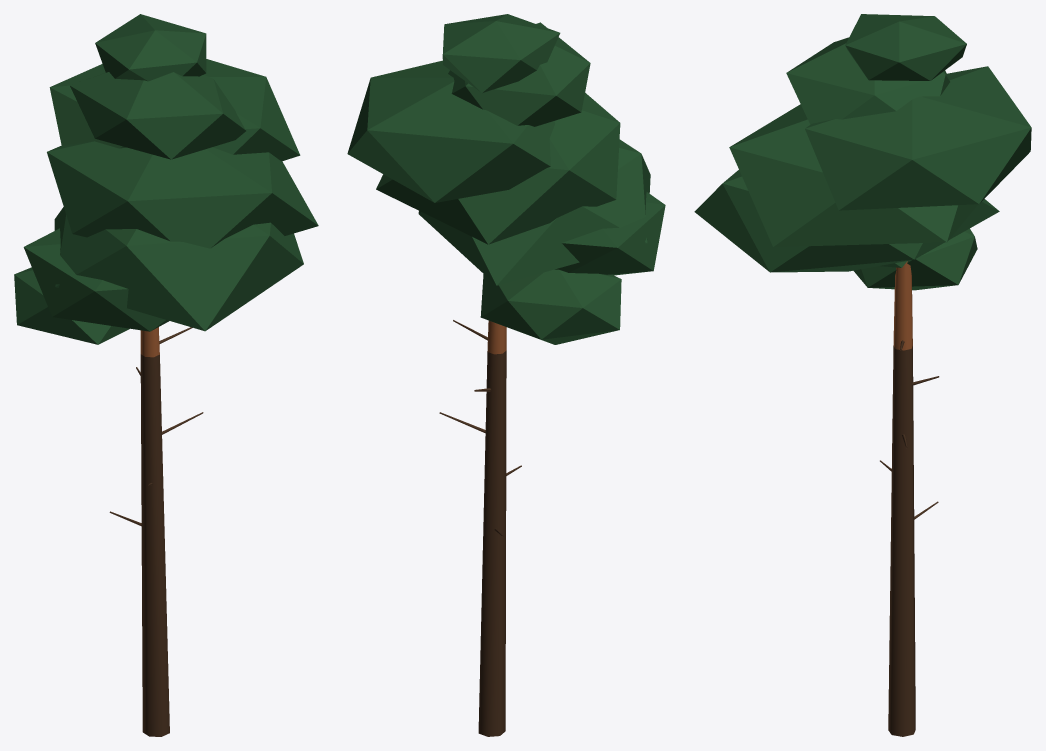
Rendered from tree-pine-3.glb.
The picture shows the model from 3 angles, left to right: view 1: azimuth 30°, elevation 25°; view 2: azimuth 150°, elevation 25°; view 3: azimuth 270°, elevation 25°; orthographic projection.
Visible parts, largest first — view 1: 02_paint0, 00_#4a3424, 01_#9a5a34; view 2: 02_paint0, 00_#4a3424, 01_#9a5a34; view 3: 02_paint0, 00_#4a3424, 01_#9a5a34.
Boxes of the visible parts, left/top/right/bottom form: 02_paint0: left=14, top=14, right=318, bottom=344; 00_#4a3424: left=109, top=327, right=203, bottom=736; 01_#9a5a34: left=140, top=327, right=159, bottom=357; 02_paint0: left=347, top=14, right=665, bottom=344; 00_#4a3424: left=439, top=320, right=521, bottom=736; 01_#9a5a34: left=487, top=320, right=506, bottom=354; 02_paint0: left=694, top=14, right=1031, bottom=290; 00_#4a3424: left=880, top=340, right=939, bottom=736; 01_#9a5a34: left=893, top=261, right=912, bottom=350.
Bounding box in the file's own units: 6.94 × 18.78 × 8.1.
